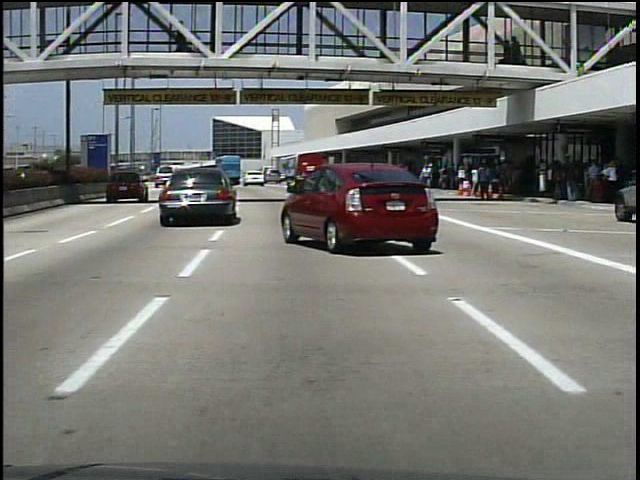person: (477, 161, 494, 206), (174, 26, 190, 58)
